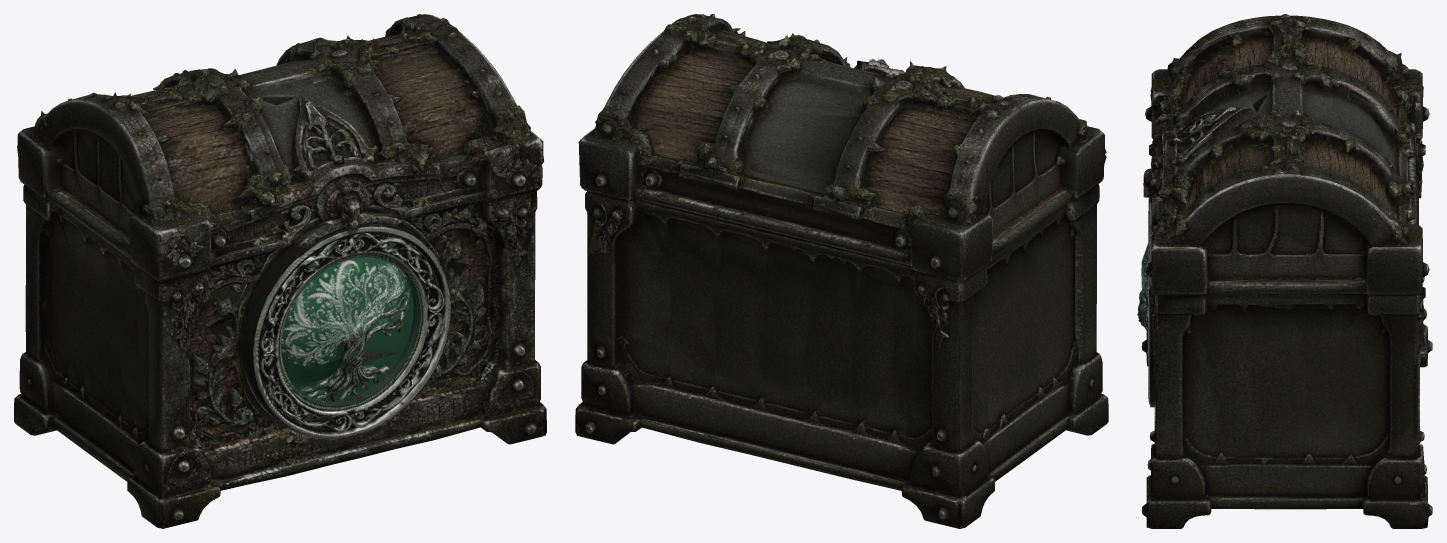
Rendered from baule_sylvorn_grezzo.glb.
3 views of the same model, side by side, from view 1: azimuth 30°, elevation 25°; view 2: azimuth 150°, elevation 25°; view 3: azimuth 270°, elevation 25° (orthographic). The views are drawn at different scales.
Parts seen in each view (by area): view 1: tripo_node_065cd64c-43ec-4c6c-94f2-7c36766c88fd; view 2: tripo_node_065cd64c-43ec-4c6c-94f2-7c36766c88fd; view 3: tripo_node_065cd64c-43ec-4c6c-94f2-7c36766c88fd.
Part boxes in pixels (x1,y1,x2,y2): tripo_node_065cd64c-43ec-4c6c-94f2-7c36766c88fd: (14, 14, 546, 528); tripo_node_065cd64c-43ec-4c6c-94f2-7c36766c88fd: (575, 14, 1108, 528); tripo_node_065cd64c-43ec-4c6c-94f2-7c36766c88fd: (1137, 14, 1432, 528).
Bounding box in the file's own units: 0.9995 × 0.9067 × 0.6899.
1 material, 1 textured.
